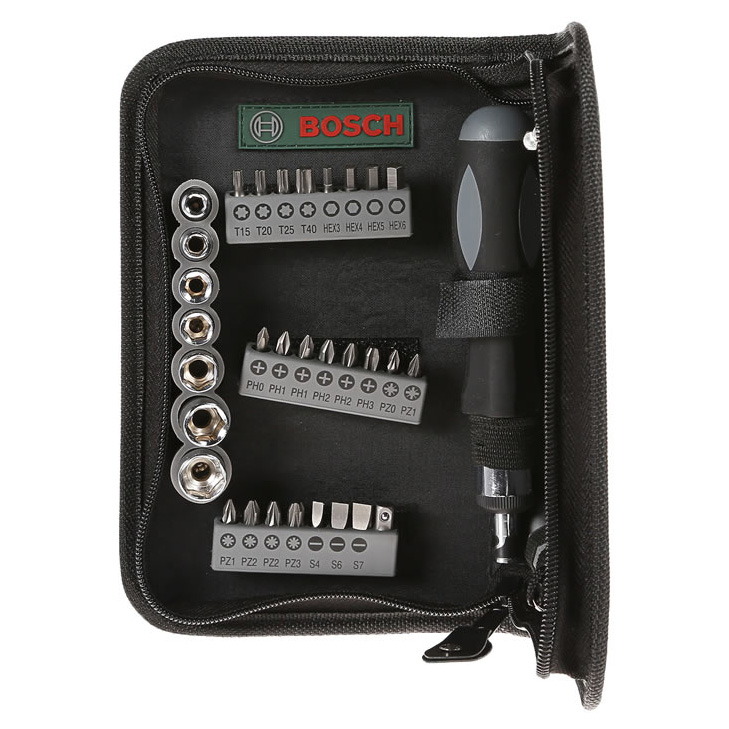Bosch: (297, 111, 411, 141)
